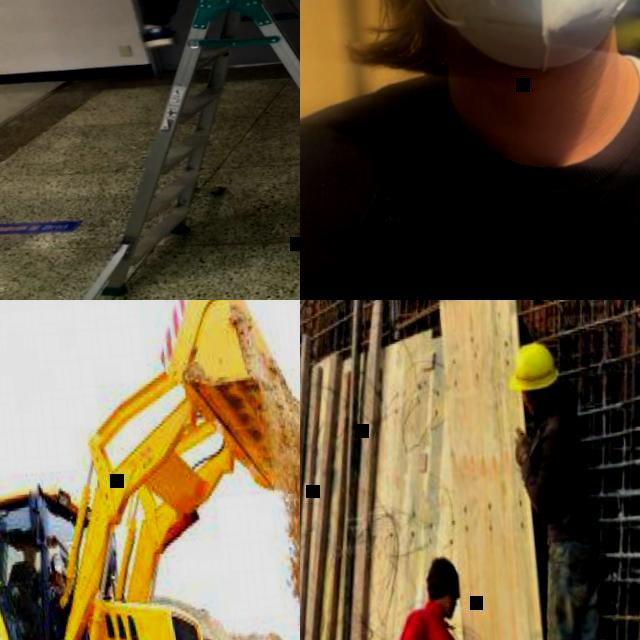helmet: (508, 336, 559, 392)
machinery: (0, 300, 300, 640)
mask: (394, 0, 640, 80)
no_helmet: (424, 550, 462, 602), (20, 542, 36, 552)
no_mask: (524, 390, 546, 412), (435, 596, 455, 618), (22, 554, 35, 564)
no_vest: (300, 43, 640, 300), (526, 395, 594, 543), (394, 609, 469, 640), (7, 561, 40, 600)
person: (300, 0, 640, 300), (486, 326, 627, 640), (117, 0, 300, 130), (382, 547, 484, 640), (0, 538, 49, 640)
